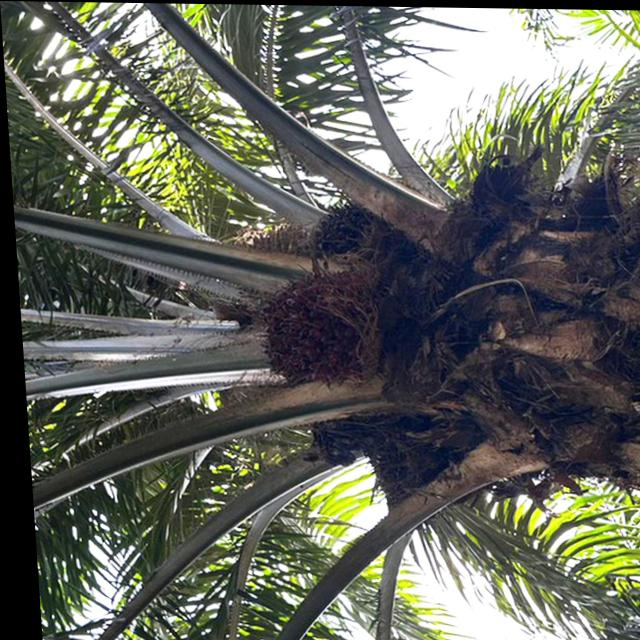ripe: (242, 262, 368, 397)
